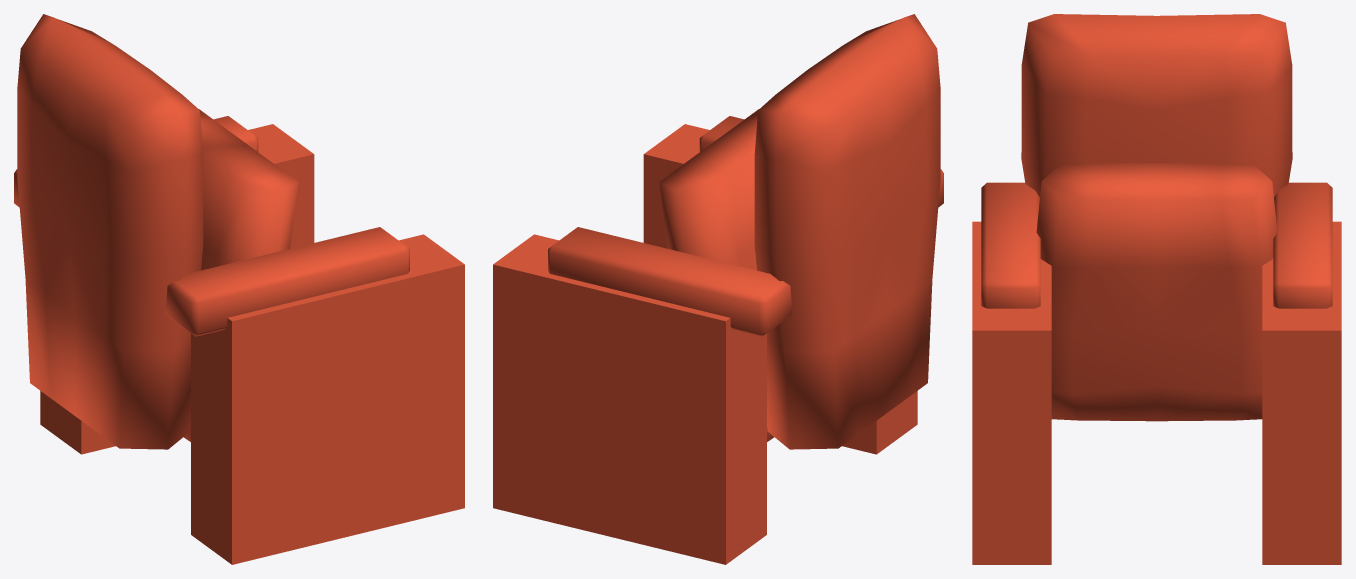
The model's file is cinema_seat.glb.
The picture shows the model from 3 angles, left to right: view 1: azimuth 30°, elevation 25°; view 2: azimuth 150°, elevation 25°; view 3: azimuth 270°, elevation 25°; orthographic projection. The views are drawn at different scales.
Visible parts, largest first — view 1: seat; view 2: seat; view 3: seat.
Part boxes in pixels (bbox=[...]): seat: bbox=[14, 14, 464, 564]; seat: bbox=[493, 14, 943, 564]; seat: bbox=[972, 14, 1341, 564].
Size of the model in its own units: 2.58 by 3.66 by 2.86.
